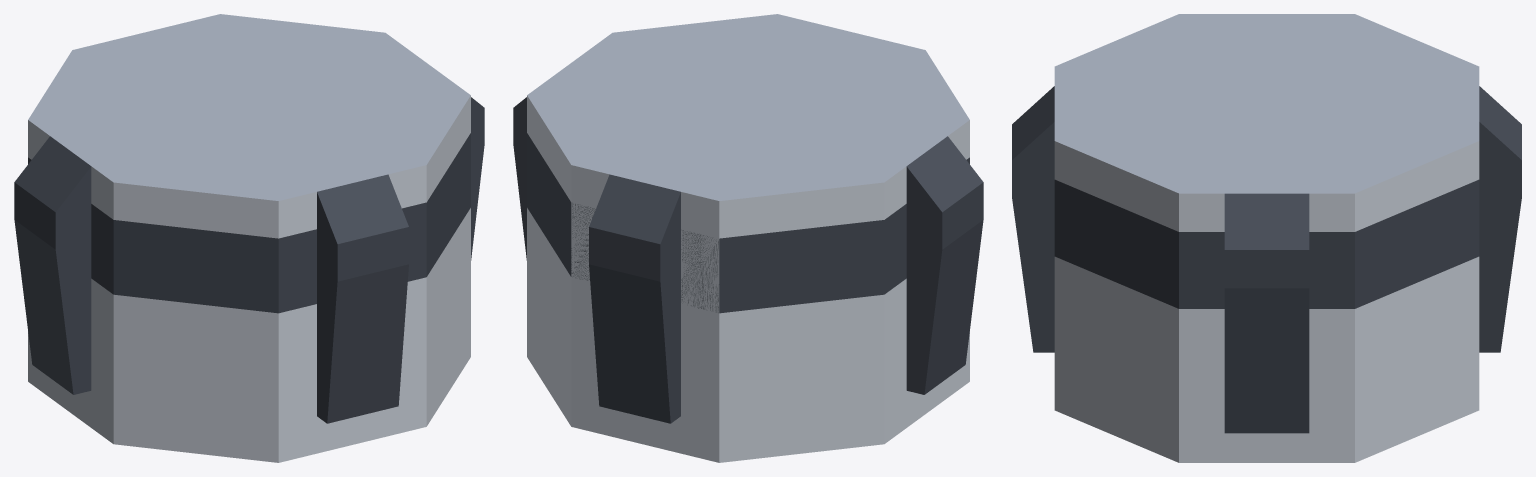
The model's file is rocket_finsA.obj.
3 views of the same model, side by side, from view 1: azimuth 30°, elevation 25°; view 2: azimuth 150°, elevation 25°; view 3: azimuth 270°, elevation 25° (orthographic). The views are drawn at different scales.
Visible parts, largest first — view 1: rocket_finsA; view 2: rocket_finsA; view 3: rocket_finsA.
Part boxes in pixels (left/top/right/bottom): rocket_finsA: left=14, top=14, right=484, bottom=462; rocket_finsA: left=513, top=14, right=983, bottom=462; rocket_finsA: left=1012, top=14, right=1521, bottom=462.
Size of the model in its own units: 1.2 by 0.7 by 1.2.
